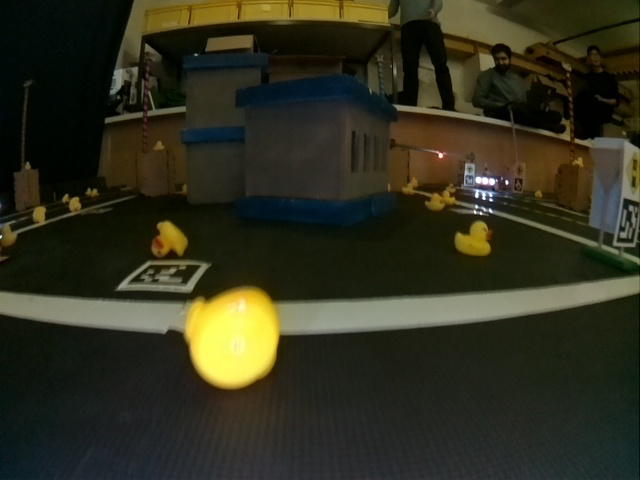Duckie: (187, 286, 280, 389), (456, 221, 491, 255), (152, 221, 184, 256), (1, 224, 16, 244), (426, 195, 444, 209), (33, 206, 46, 222), (69, 196, 80, 210), (443, 192, 453, 202), (403, 183, 414, 192)
Duckiebot: (476, 176, 508, 191)
QR code: (117, 262, 210, 292), (615, 201, 640, 248)
Signal sign: (625, 147, 639, 195)
